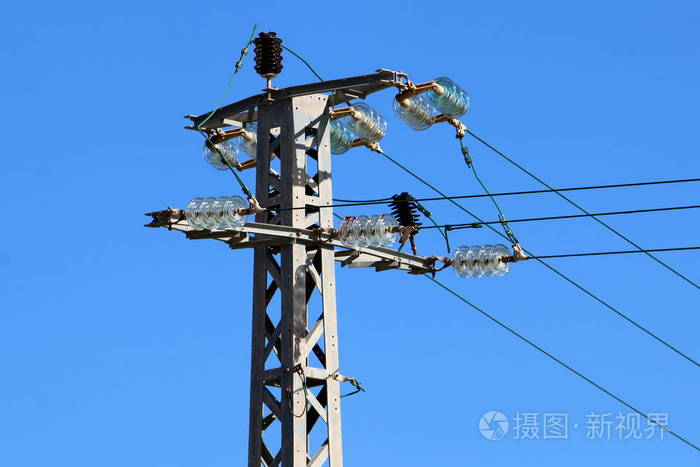insulator: (333, 215, 401, 247), (186, 195, 251, 227), (455, 245, 513, 279), (345, 99, 388, 140), (428, 78, 475, 114), (395, 92, 437, 130), (201, 139, 239, 171), (328, 120, 353, 154), (241, 126, 259, 156)
